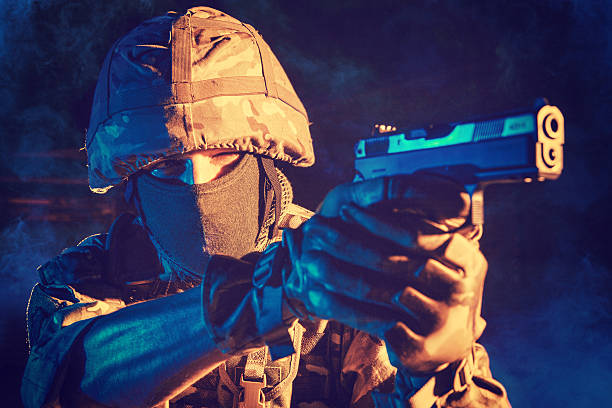pistol: (351, 99, 571, 237)
